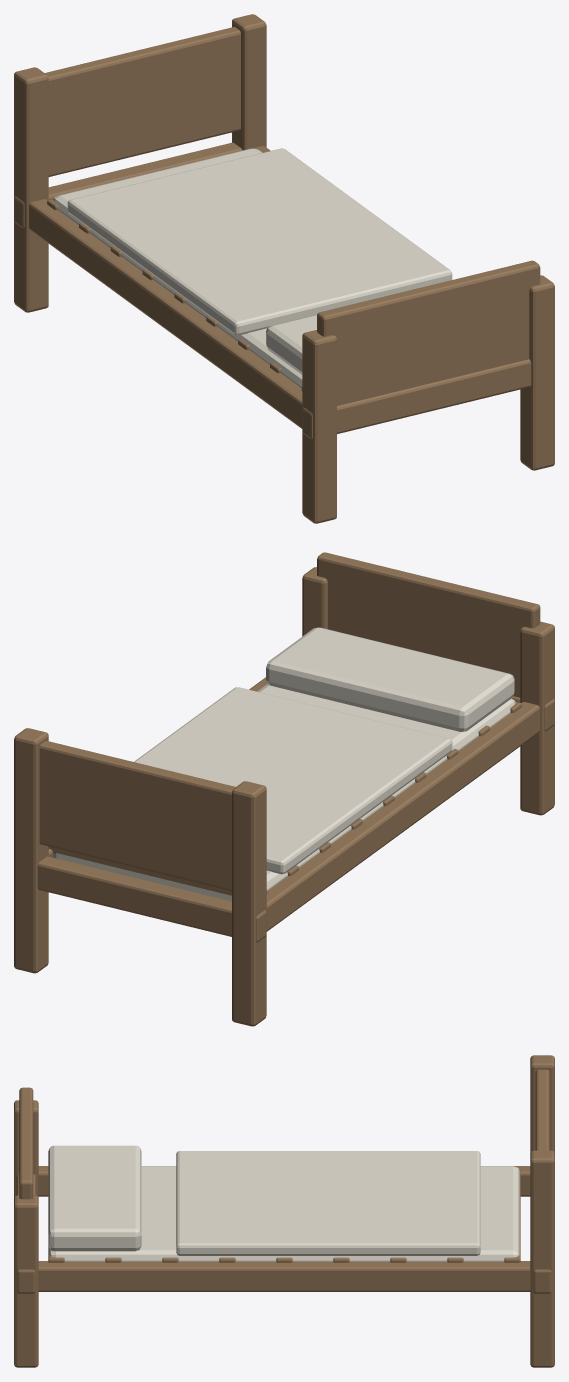
The model's file is monastery_dormitory_cot.glb.
3 renders of one model, top to bottom at view 1: azimuth 30°, elevation 25°; view 2: azimuth 150°, elevation 25°; view 3: azimuth 270°, elevation 25°, orthographic. The views are drawn at different scales.
Visible parts, largest first — view 1: world; view 2: world; view 3: world.
Part boxes in pixels (x1,y1,x2,y2): world: (14, 14, 554, 523); world: (14, 552, 554, 1026); world: (14, 1055, 554, 1367).
Bounding box in the file's own units: 0.9339 × 0.8529 × 2.
